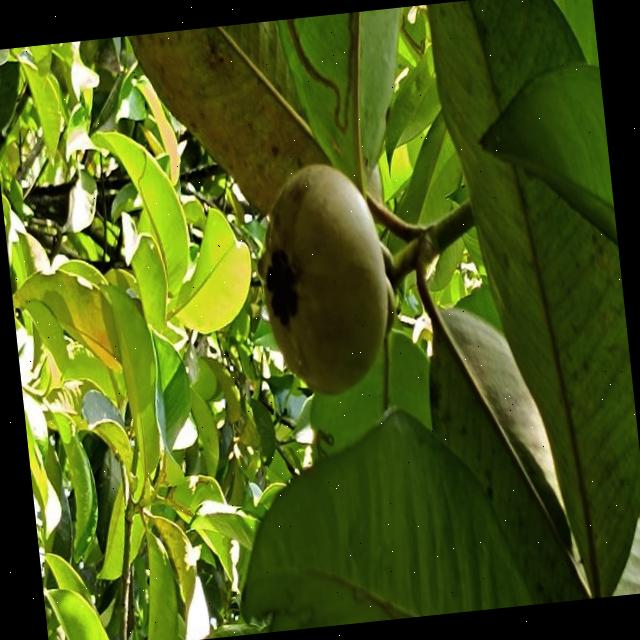mangosteen: (218, 154, 458, 418)
